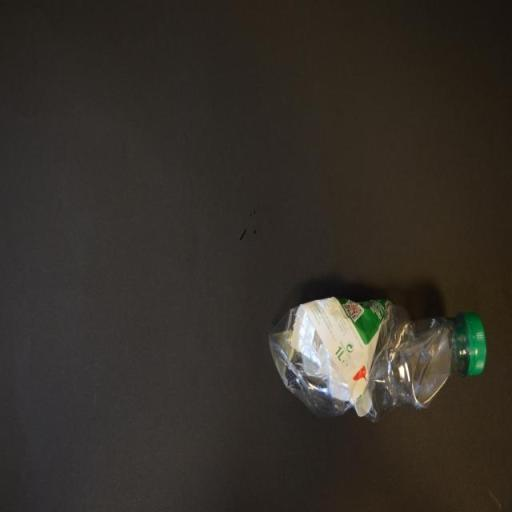plastic: (270, 294, 488, 425)
